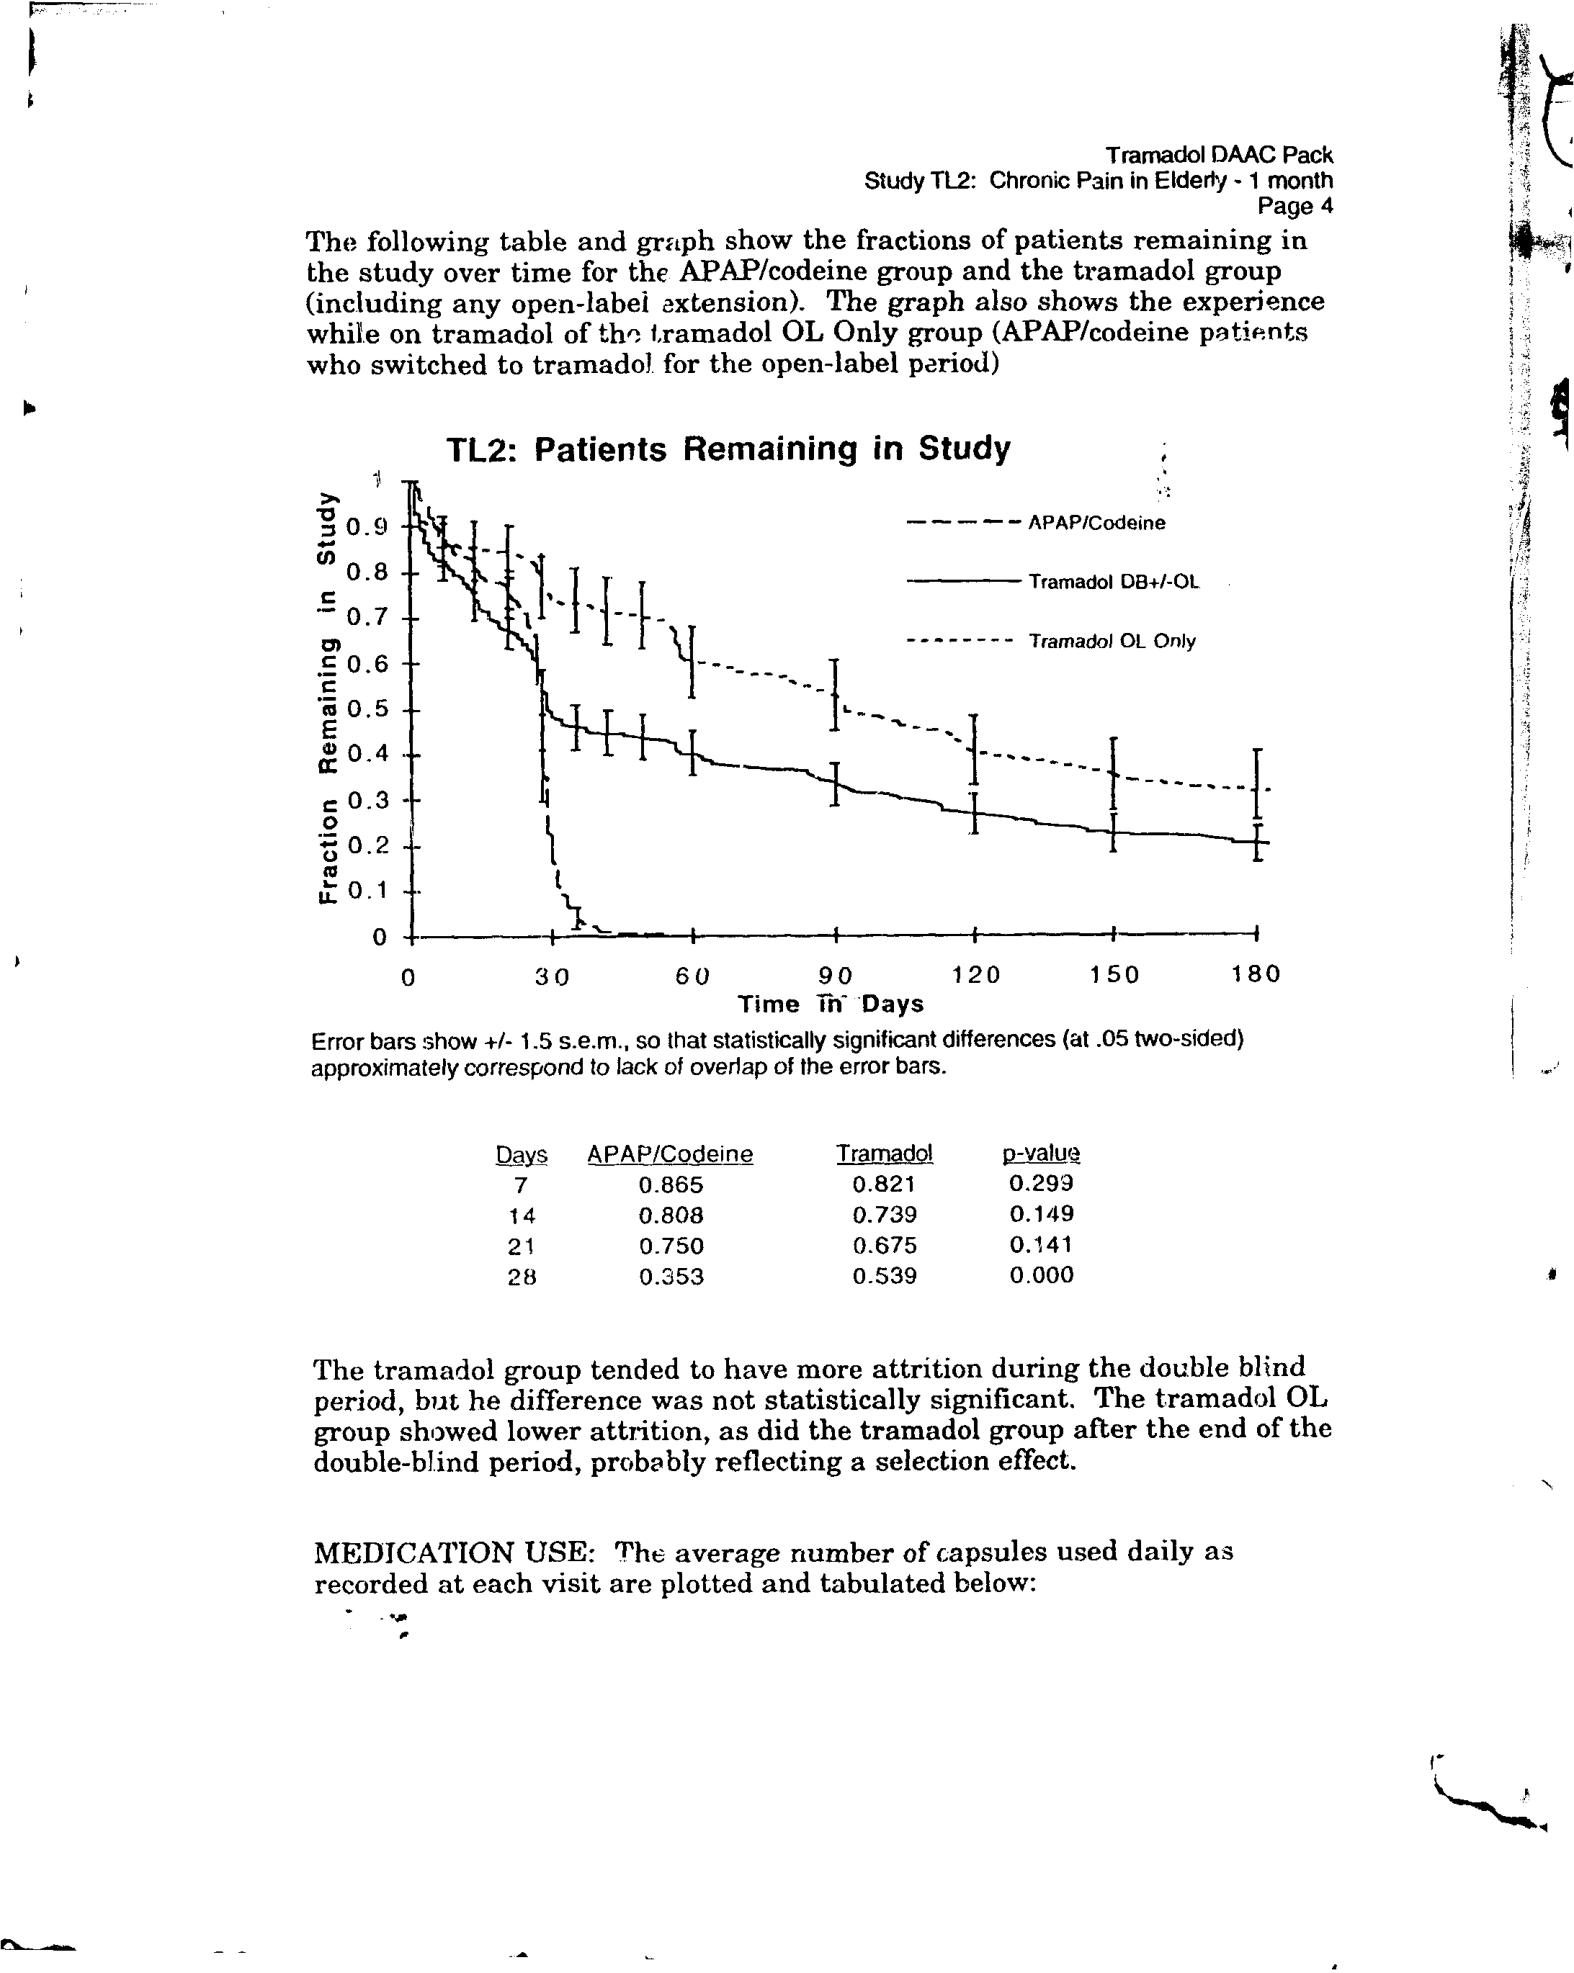nolines: (493, 1138, 1081, 1288)
